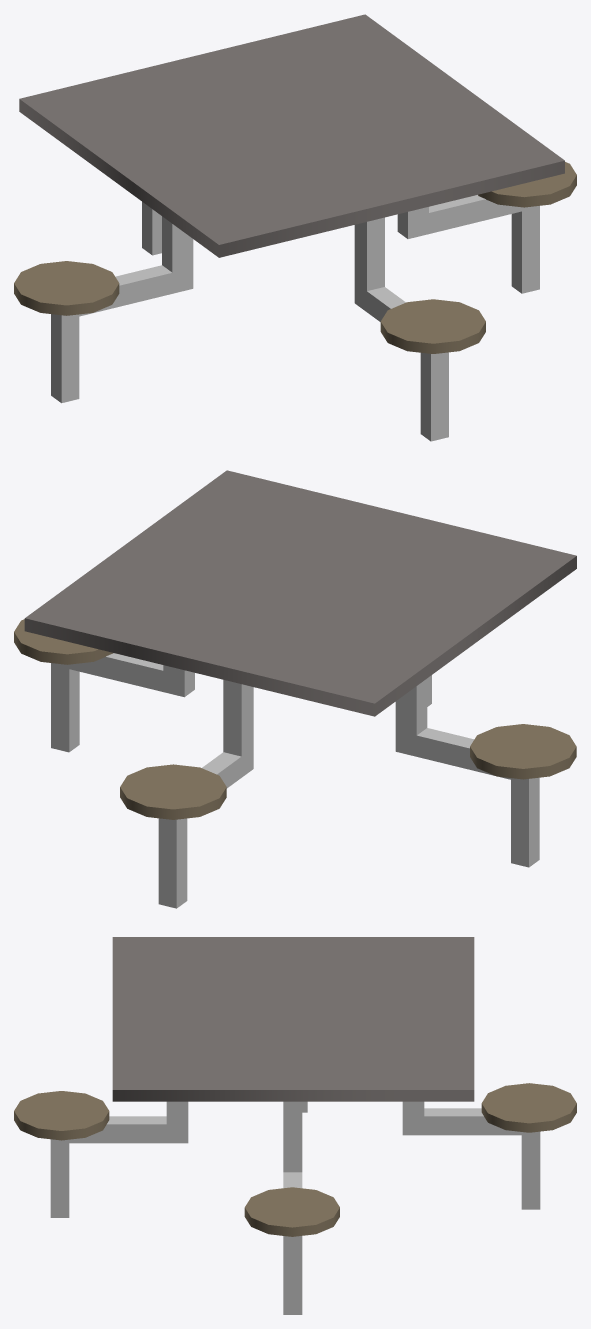
The model's file is SM_Table_01.fbx.
The picture shows the model from 3 angles, top to bottom: view 1: azimuth 30°, elevation 25°; view 2: azimuth 150°, elevation 25°; view 3: azimuth 270°, elevation 25°; orthographic projection. The views are drawn at different scales.
Visible parts, largest first — view 1: SM_Table_01; view 2: SM_Table_01; view 3: SM_Table_01.
Boxes of the visible parts, x1,y1,x2,y2 form: SM_Table_01: [14, 14, 576, 441]; SM_Table_01: [14, 470, 576, 908]; SM_Table_01: [14, 937, 576, 1314].
Bounding box in the file's own units: 250 × 93.93 × 247.
